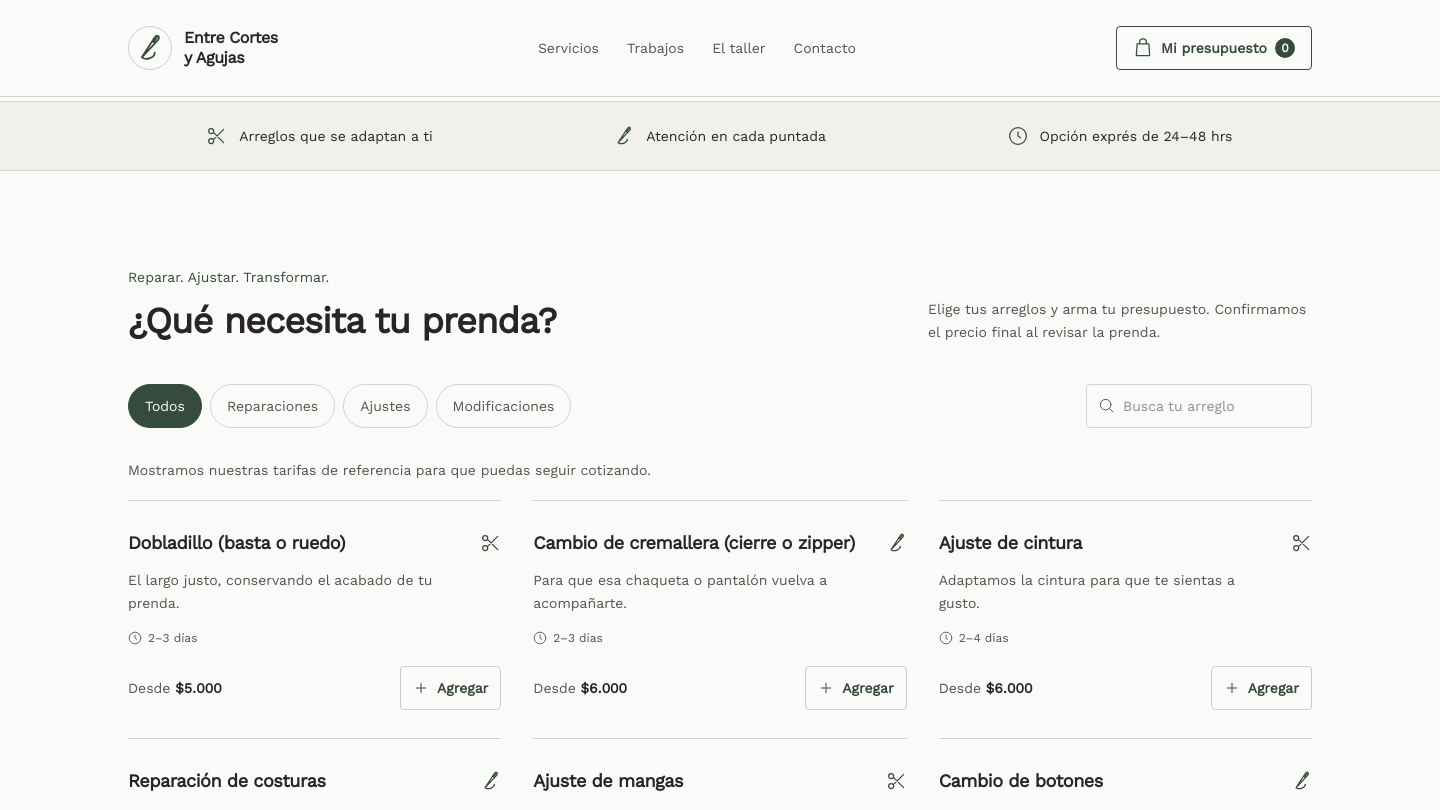
it: workshop landing › filters categories and explains an empty search
The image size is (1440, 810).
(page scrolled)
Step 1. Click the button "Ajustes" → (385, 406), box [343,384,428,428]
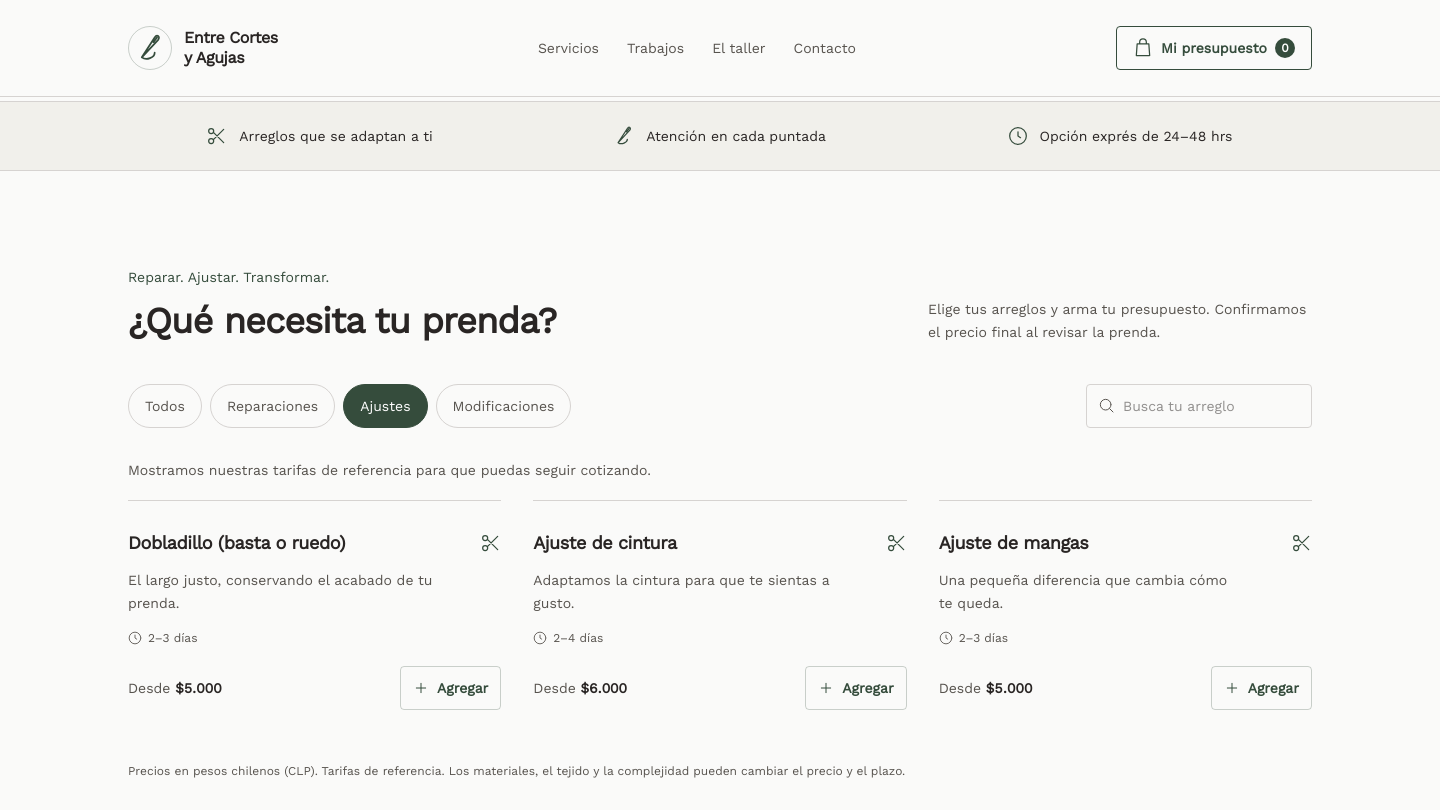
Expected: the heading "Dobladillo (basta o ruedo)" is shown, [128,529,345,557]
Expected: the heading "Cambio de cremallera (cierre o zipper)" is gone
Step 2. Type "inexistente" into the search field named "Buscar un servicio" → (1211, 406), box [1123,388,1299,424]
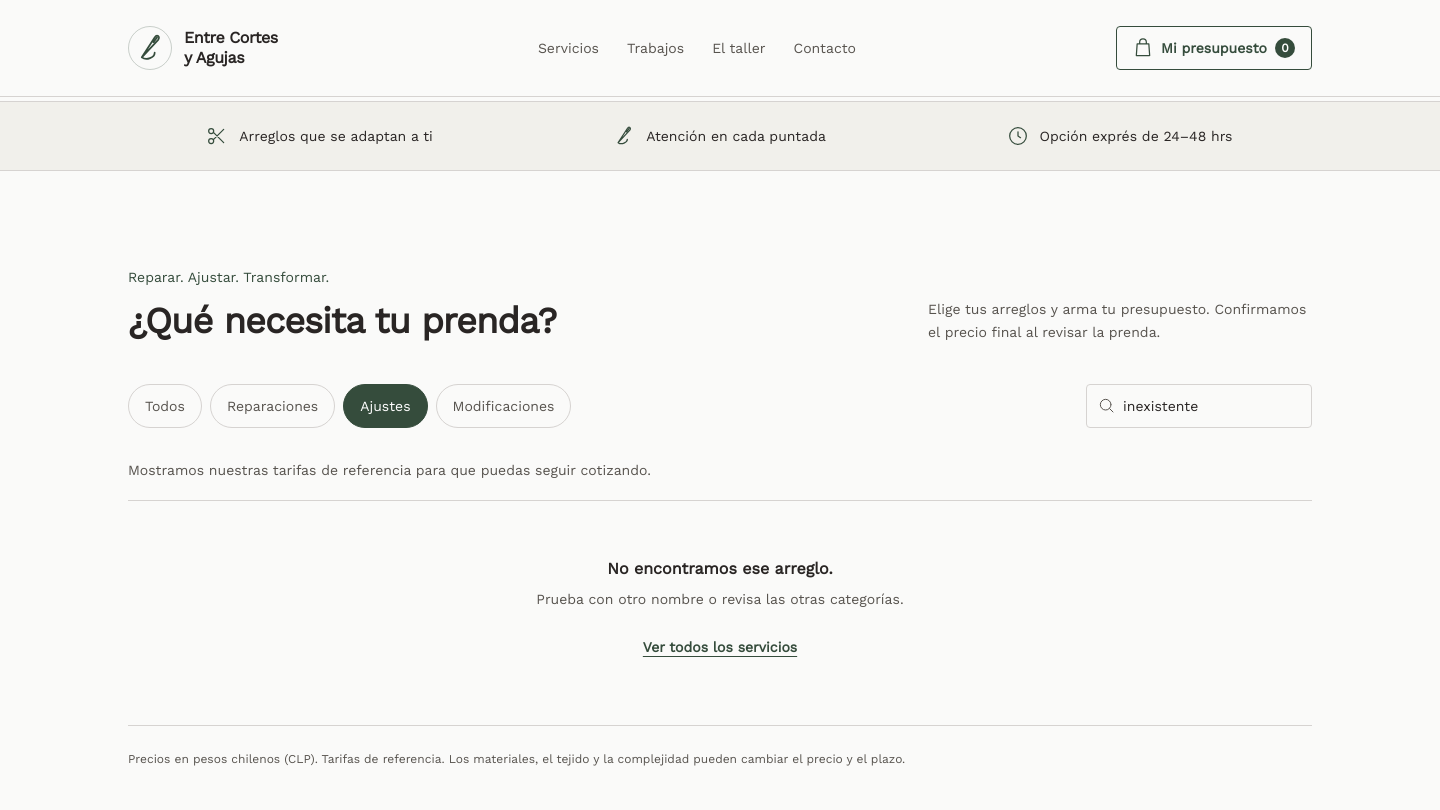
Expected: the text "No encontramos ese arreglo." is shown, [607,559,833,578]
Step 3. Click the button "Ver todos los servicios" → (720, 647), box [627,625,813,669]
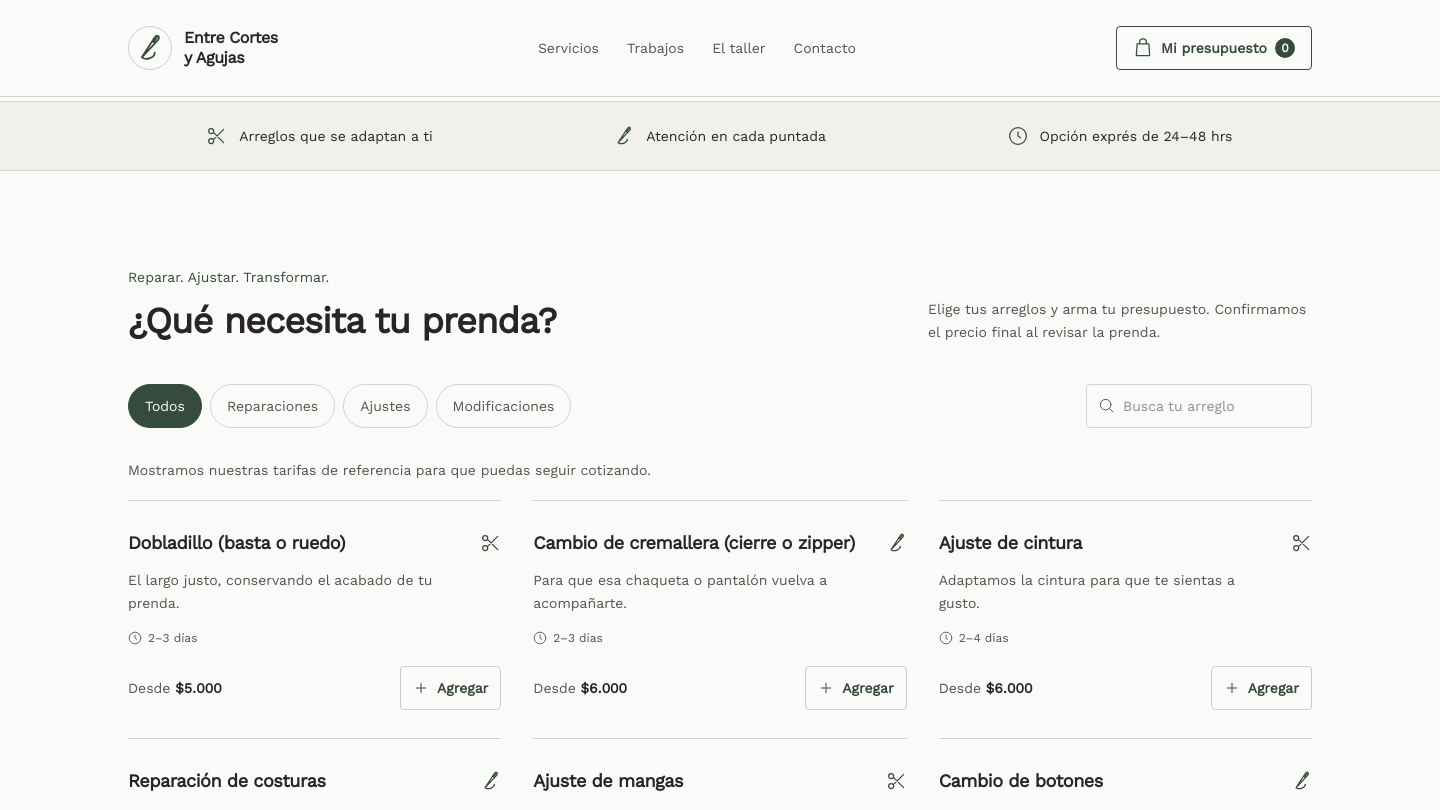
Expected: the heading "Cambio de cremallera (cierre o zipper)" is shown, [533,529,855,557]
